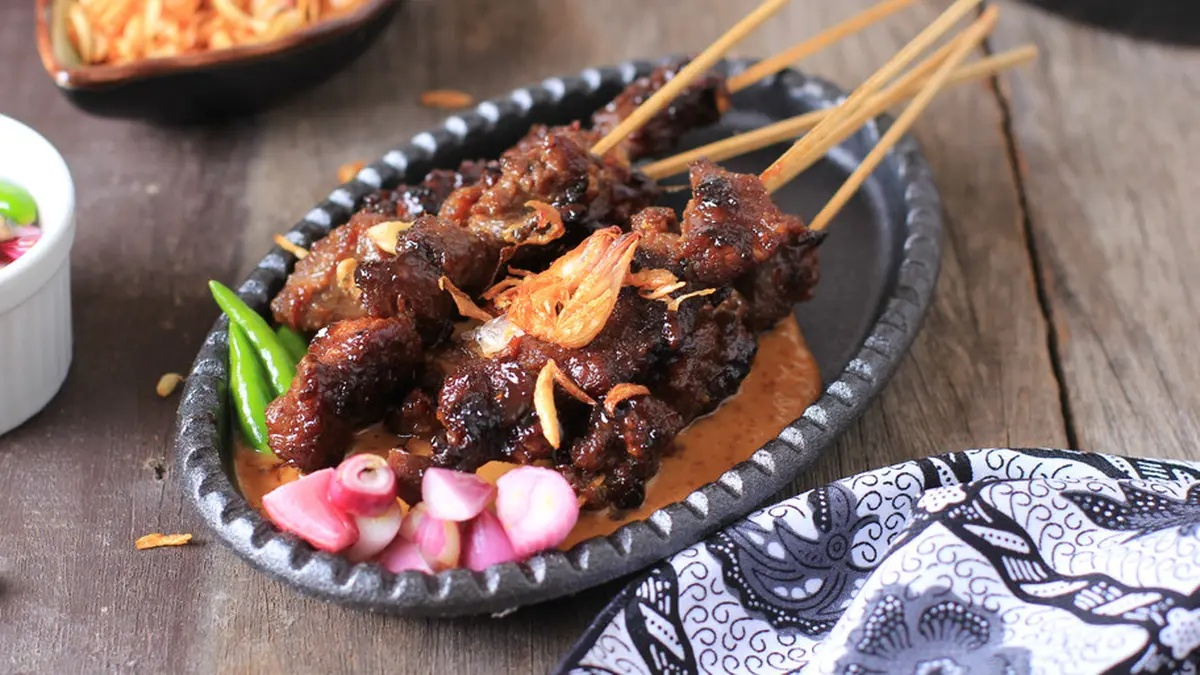sate: (271, 0, 1040, 522)
